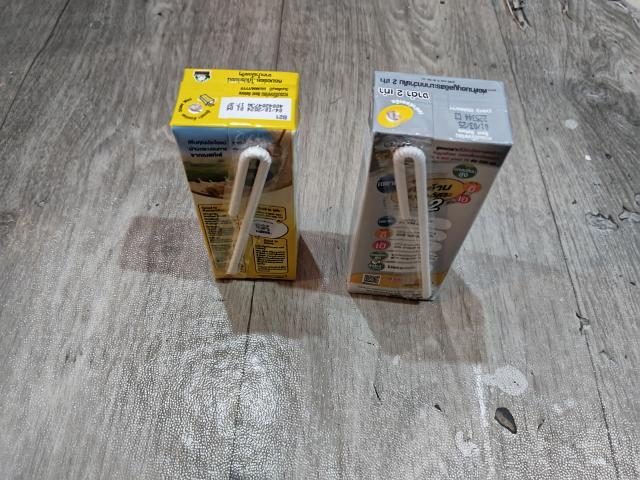drink_box: (366, 72, 506, 305), (171, 66, 305, 282)
